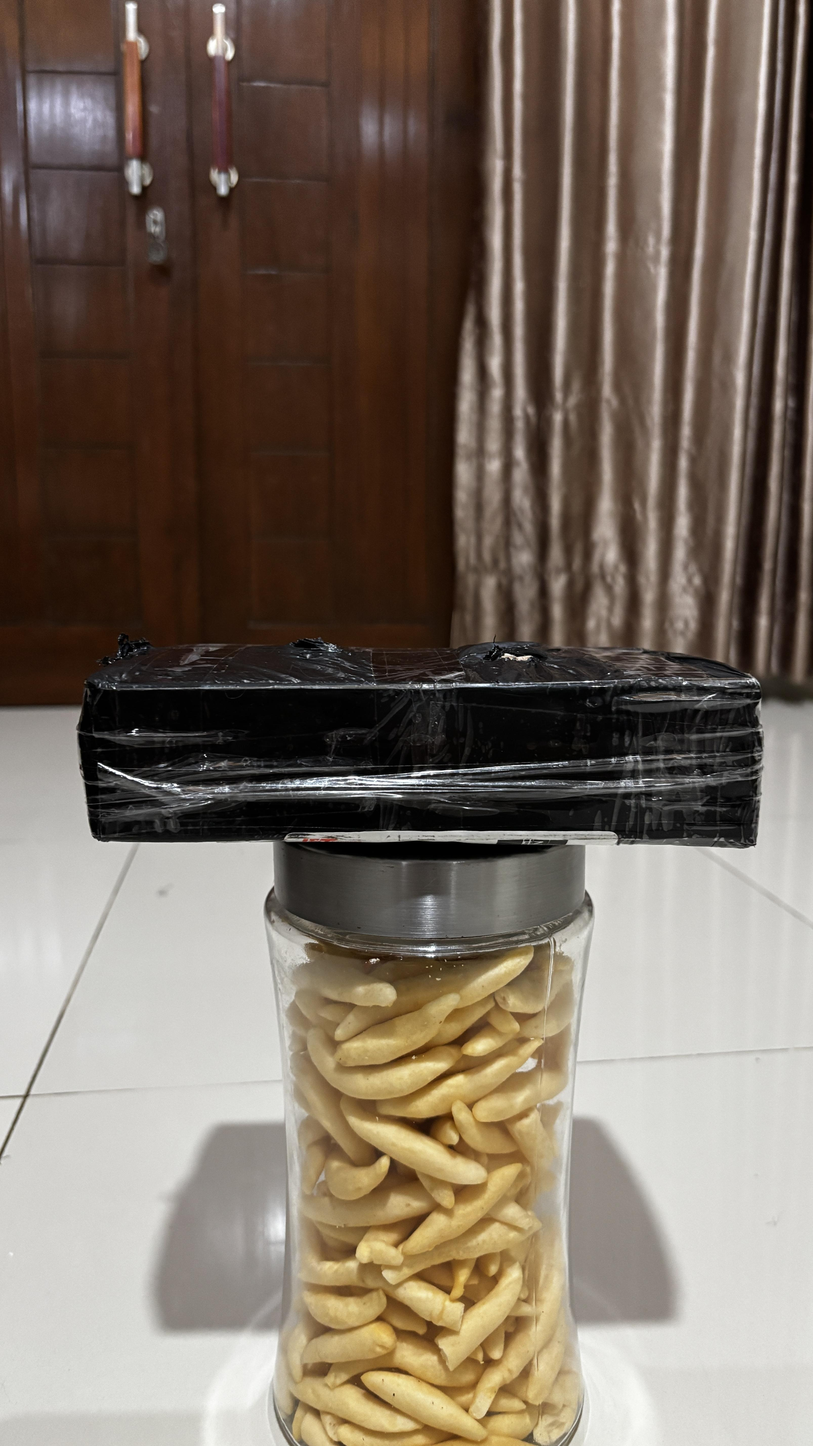damaged package: (102, 638, 151, 669), (482, 647, 550, 669), (289, 637, 335, 654)
undamaged: (62, 624, 769, 859)
